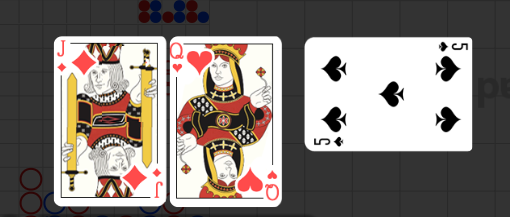5S: (312, 135, 346, 148), (436, 41, 469, 54)
9D: (55, 39, 67, 73)
